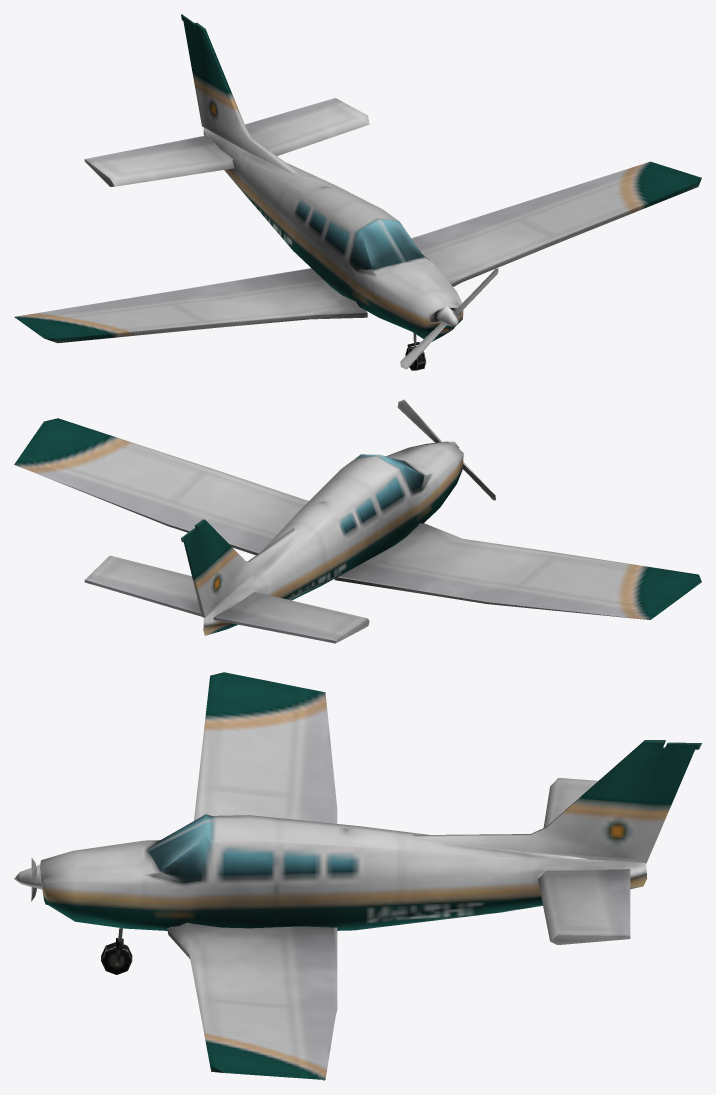
Rendered from PrivatePlane.fbx.
3 renders of one model, top to bottom at view 1: azimuth 30°, elevation 25°; view 2: azimuth 150°, elevation 25°; view 3: azimuth 270°, elevation 25°, orthographic. The views are drawn at different scales.
Visible parts, largest first — view 1: PrivatePlane_B_private_plane_b; view 2: PrivatePlane_B_private_plane_b; view 3: PrivatePlane_B_private_plane_b.
Boxes of the visible parts, <box> form: PrivatePlane_B_private_plane_b: <box>14,14,701,370</box>; PrivatePlane_B_private_plane_b: <box>14,399,701,643</box>; PrivatePlane_B_private_plane_b: <box>14,672,701,1080</box>.
Bounding box in the file's own units: 5.57 × 1.5 × 4.04.
